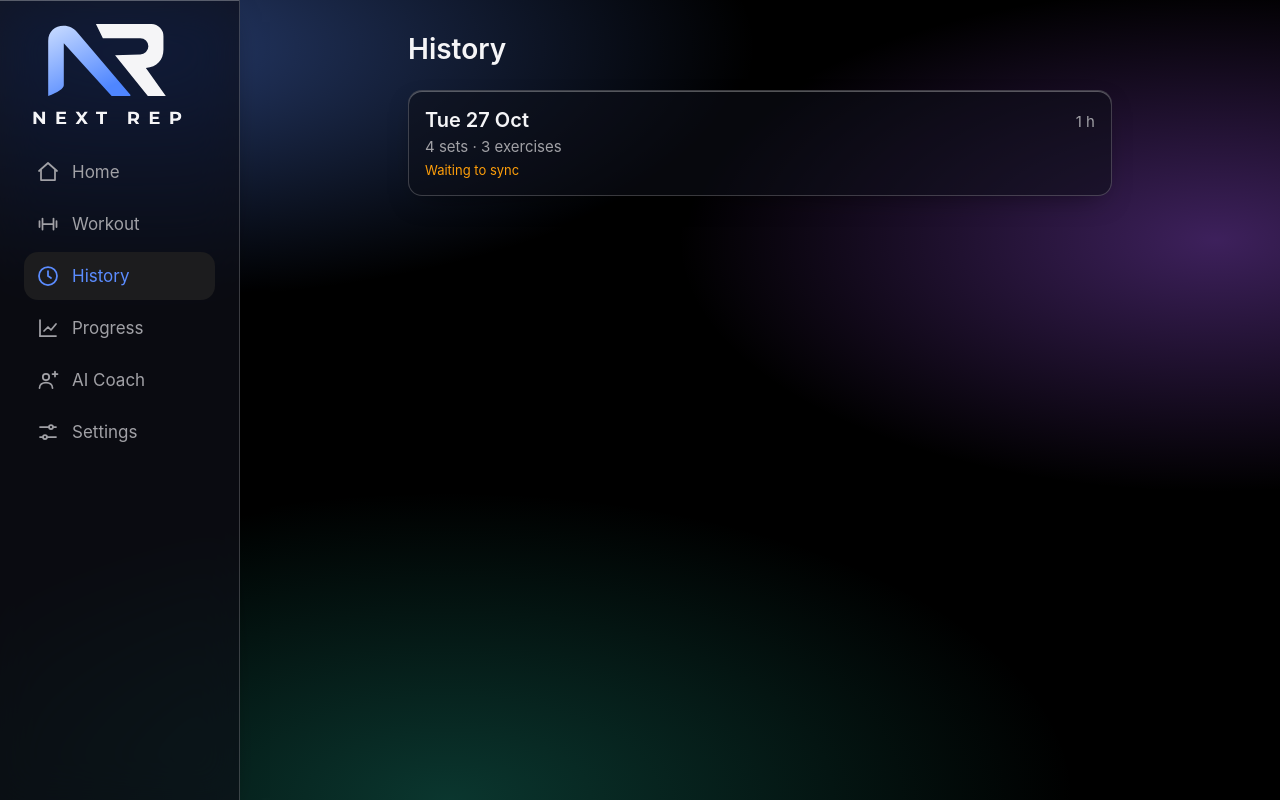
Test: QA history detail for every kind of weight › shows the same sets in lb, and never touches the stored kg
Click the link "Tue 27 Oct 1 h 4 sets · 3 exercises Waiting to sync" at {"x": 477, "y": 120}, box 408,90 -> 1112,196
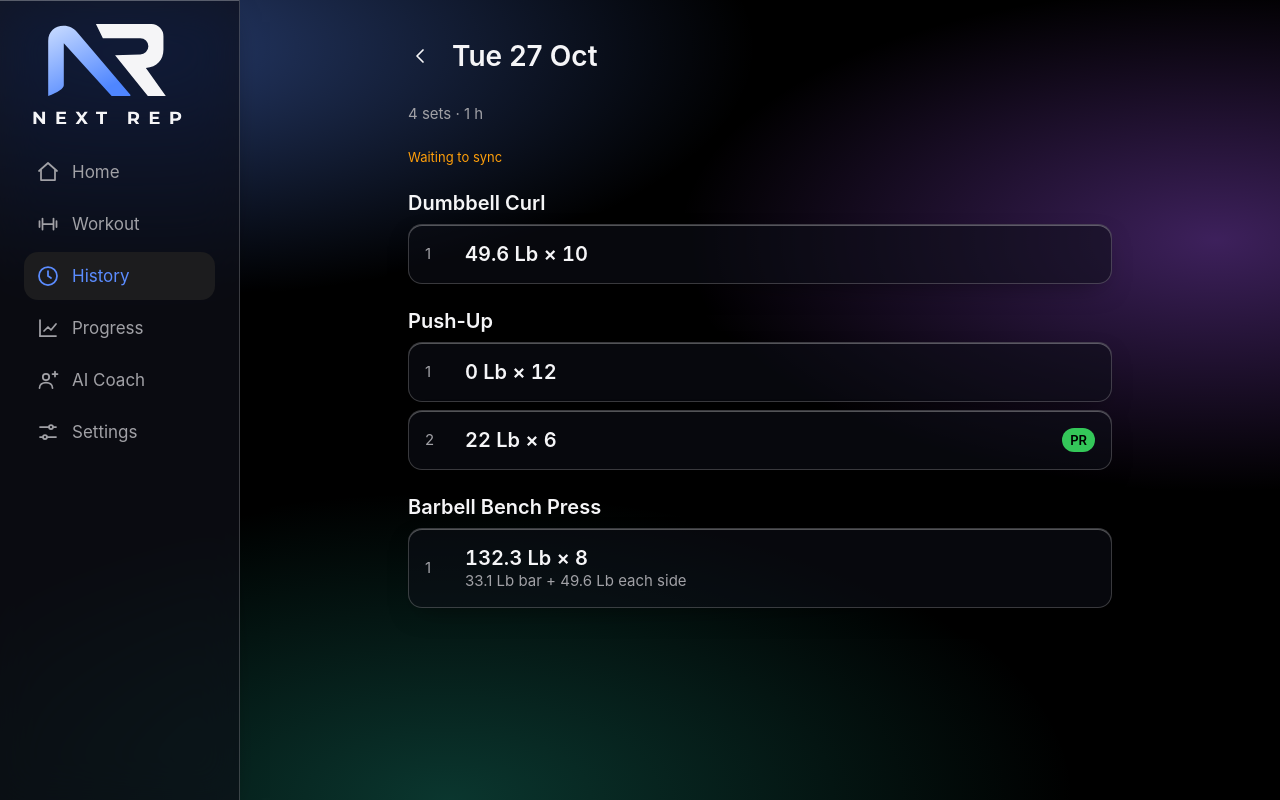
Result: the text "49.6 Lb × 10" is shown at 465,242 -> 588,266
Result: the element "Barbell Bench Press" shows "132.3 Lb × 8" at 465,546 -> 588,570
Result: the element "Barbell Bench Press" shows "33.1 Lb bar" at 465,571 -> 687,590
